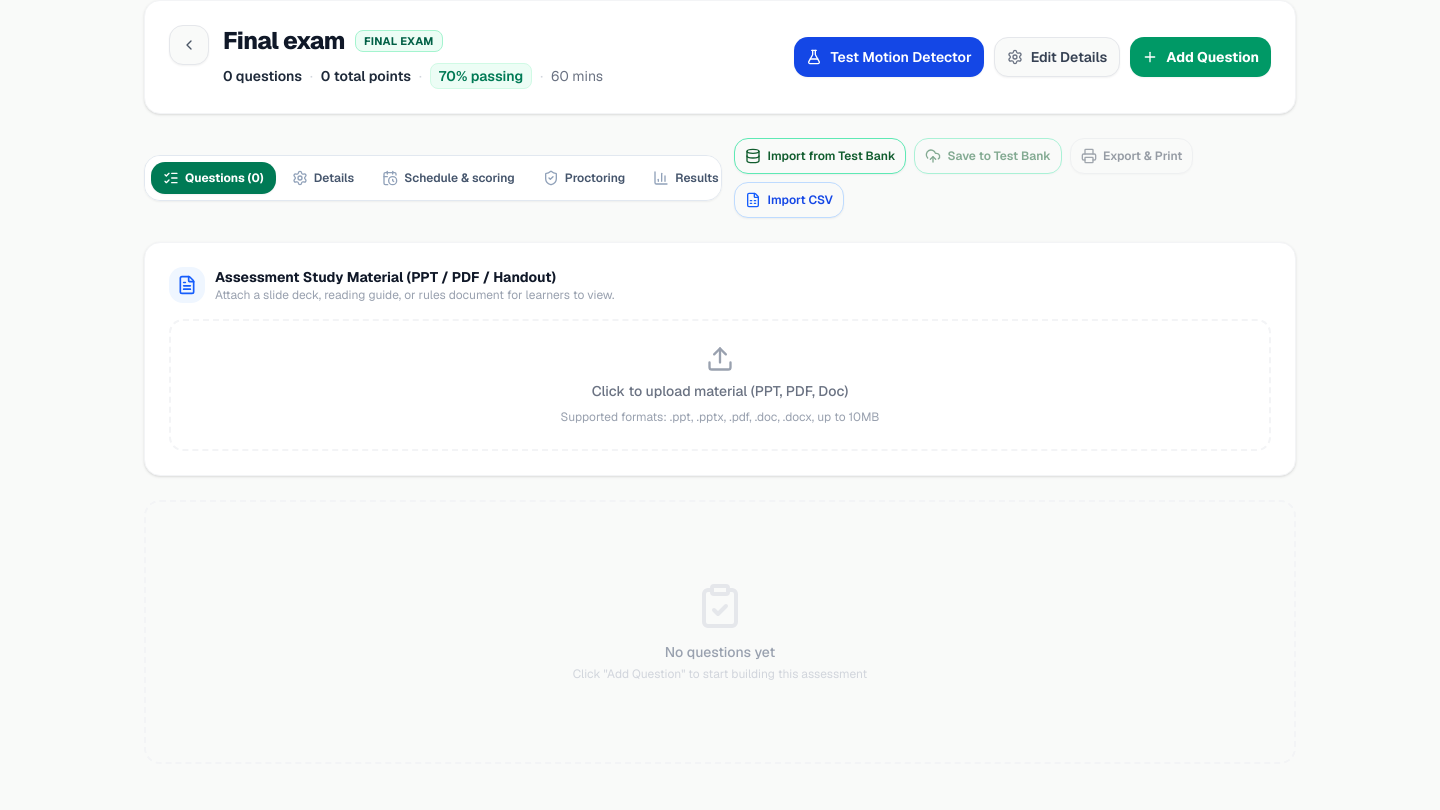
Scenario: places the threshold tester with the motion controls on the admin management page
This screenshot has width=1440, height=810.
Later steps or results of the test are not shown.
Expected: the heading "Final exam" is shown, [223,25,345,57]
Click the button "Test Motion Detector".
click(889, 57)  # box [794,37,984,77]
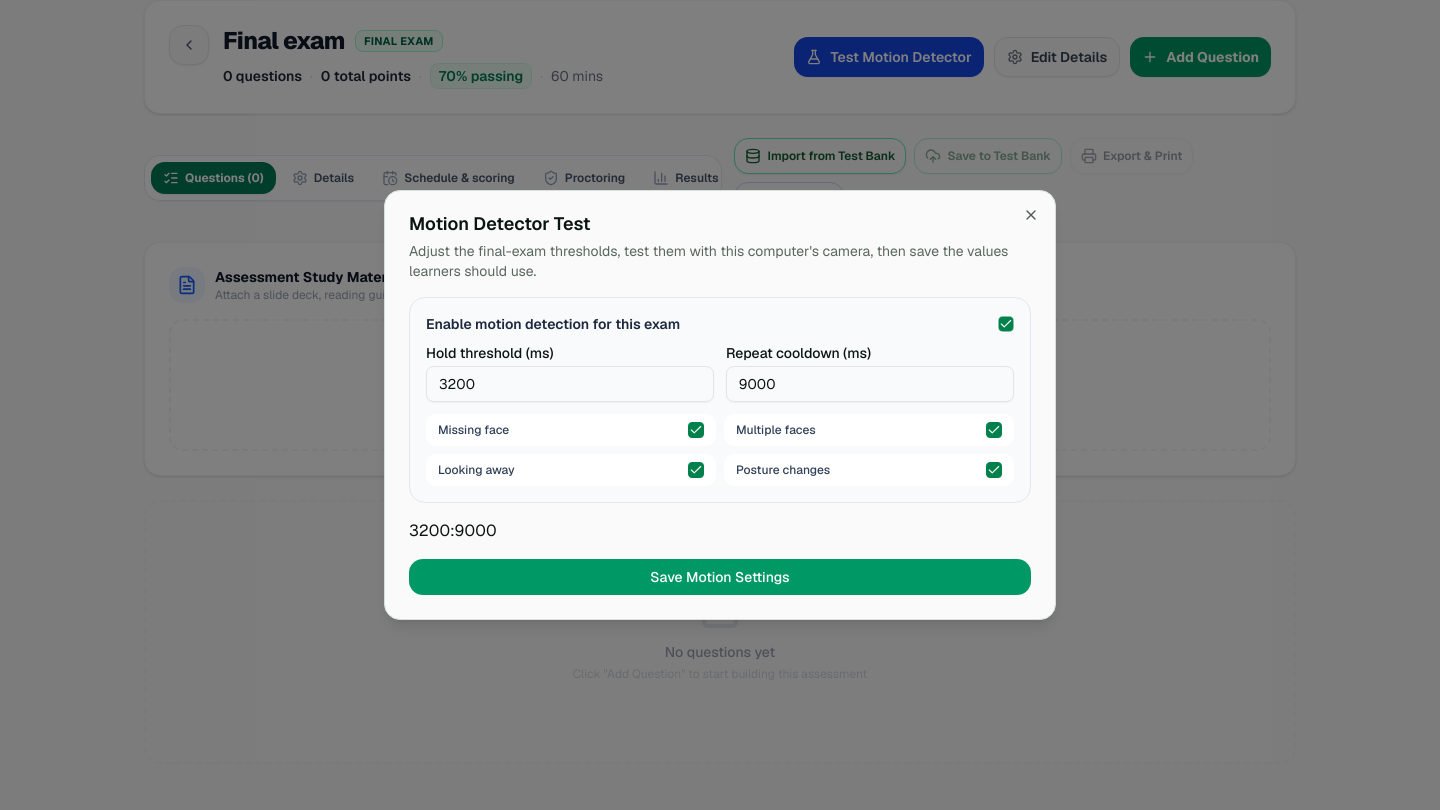
Now the heading "Motion Detector Test" is shown, box [409,212,590,235]
Now the text with test id "admin-motion-threshold-test" reads "3200:9000", box [409,520,497,541]
Click the checkbox named "Enable motion detection for this exam" in the row of "Enable motion detection for this exam".
click(1006, 324)  # box [998,316,1014,332]
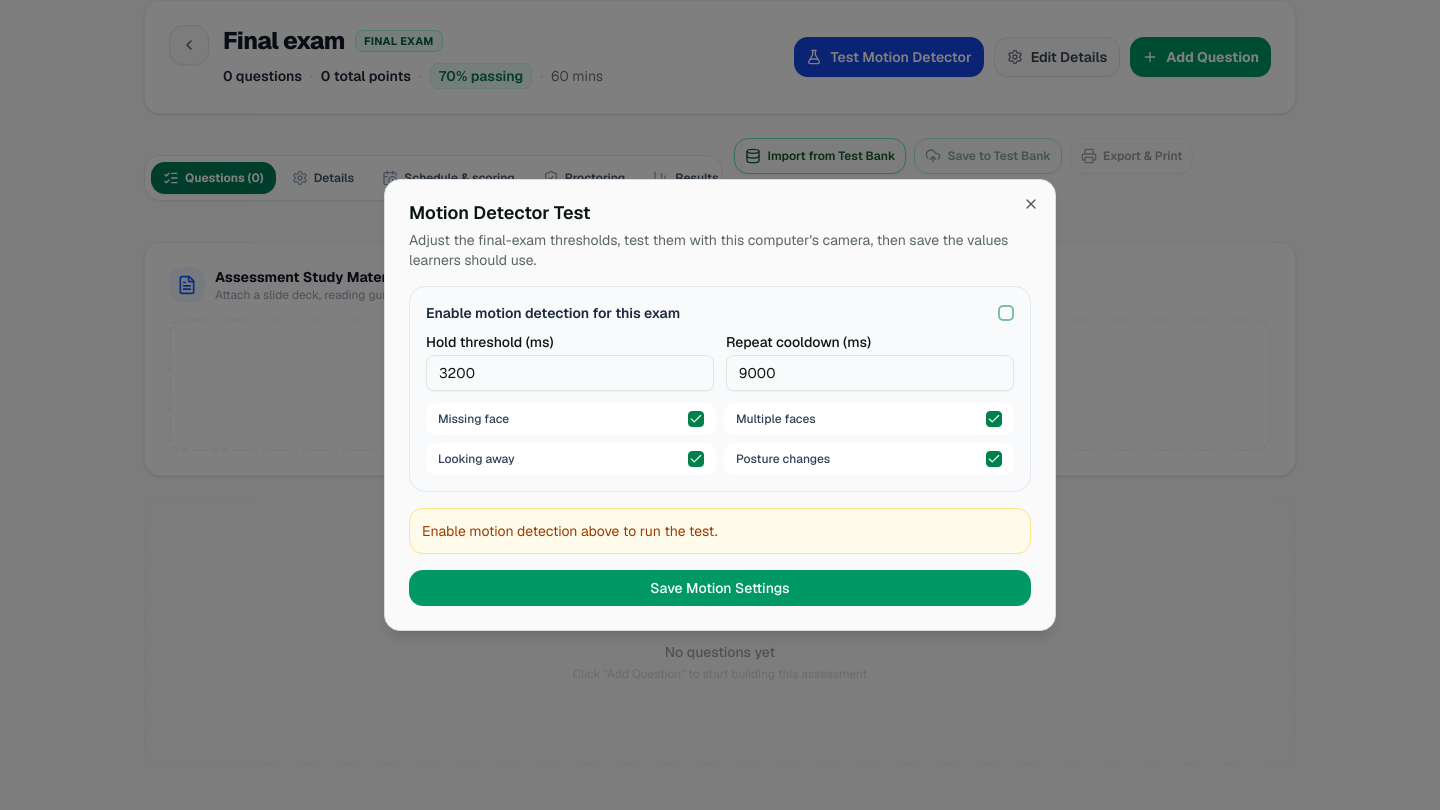
Now the text with test id "admin-motion-threshold-test" is gone
